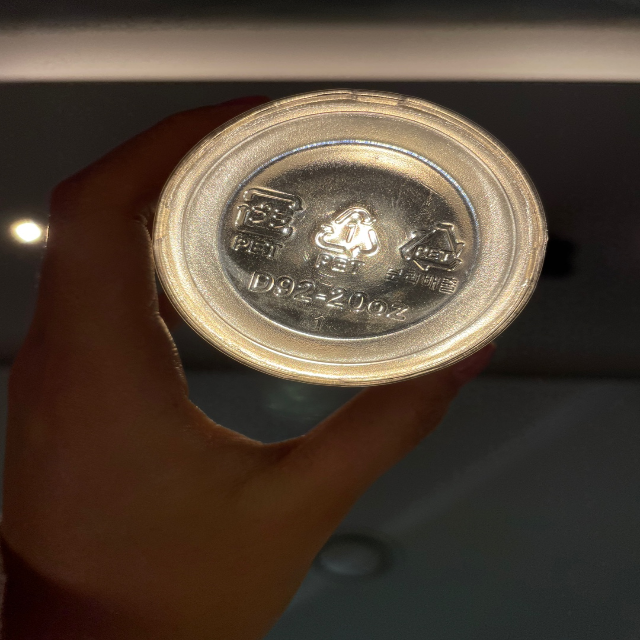pet: (307, 200, 389, 280), (390, 217, 470, 299), (224, 179, 302, 263)
